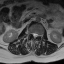CCS_normal: (34, 30, 36, 40)
LFS_stenosis: (38, 32, 40, 38)
LLS_normal: (36, 31, 38, 38)
RFS_stenosis: (30, 30, 32, 36)
RLS_normal: (32, 30, 34, 38)
